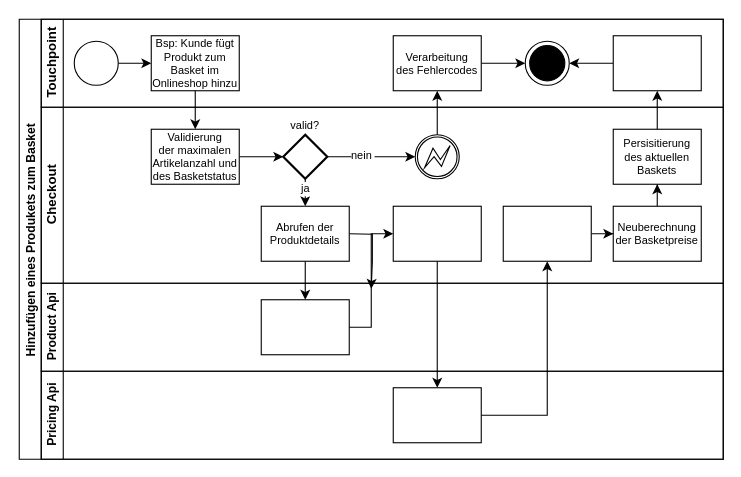
Some shapes in this 741 by 477 pixel diagram are drawn without their labels. Each missing label, with the centre of its shape:
"Abrufen des aktuellen Preises" belongs at [436,233].
"Aktualisieren des lokal gespeicherten Baskets" belongs at [656,63].
"Hinzufügen der Lieferkosten der Produkte" belongs at [546,233].
"Suche des Produkts anhand Produkt ID" belongs at [304,327].
"Suchen des Preises anhand Produkt ID und Outlet ID" belongs at [436,415].
